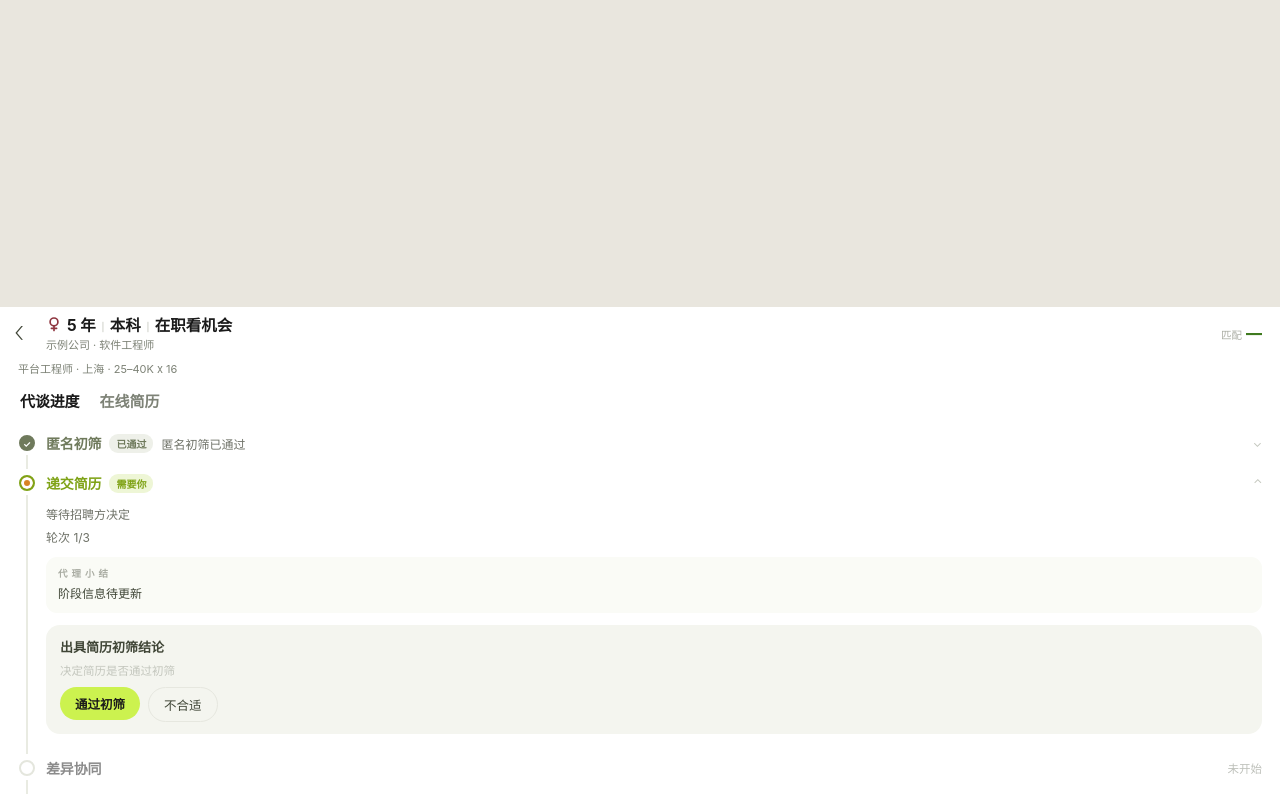
Test case: 后端正常详情 · 招聘端顶栏同源与页尾确认事实（Task 6） › R1：完整布局下解释缺失（Task 6 起按模型口径）分析区标题与缺失说明保留（不整区消失）
(page scrolled)
Click the button "在线简历". click: (129, 400)
box: 99,390 -> 159,411
(page scrolled)
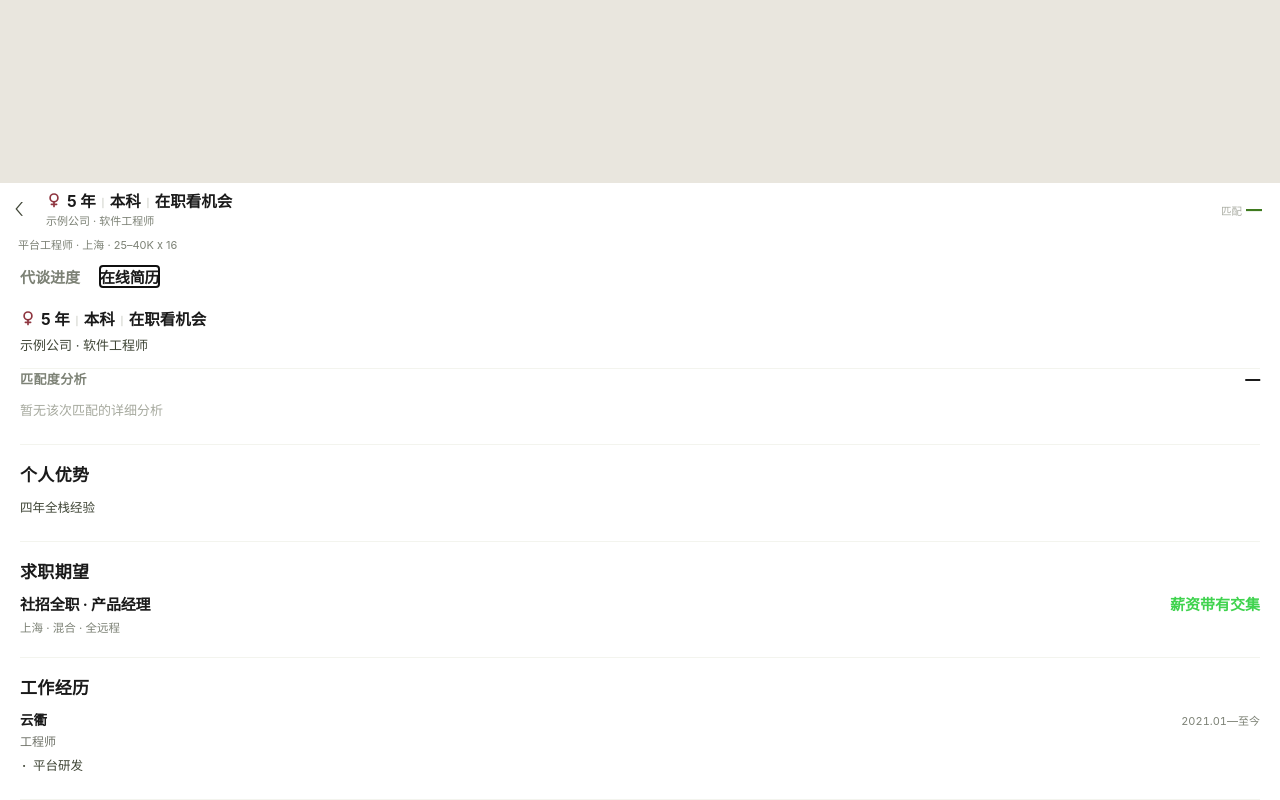
Now the text "匹配度分析" is shown, box 20,369 -> 87,388
Now the text "暂无该次匹配的详细分析" is shown, box 20,402 -> 163,418
